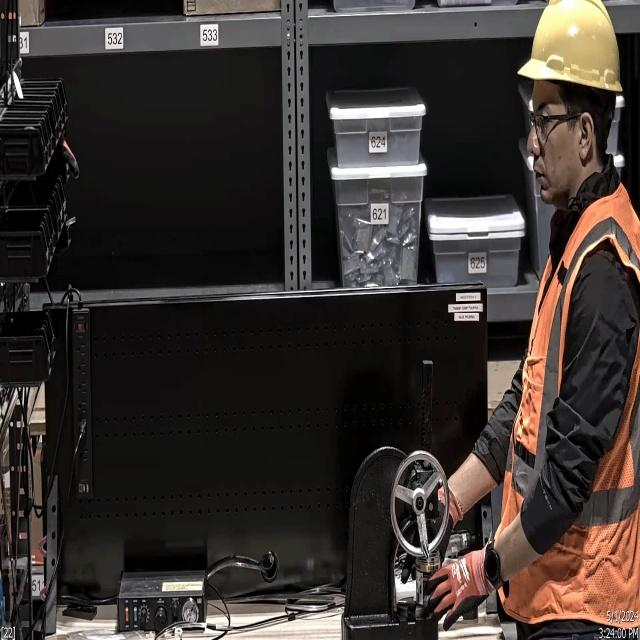gloves: (424, 542, 499, 630)
